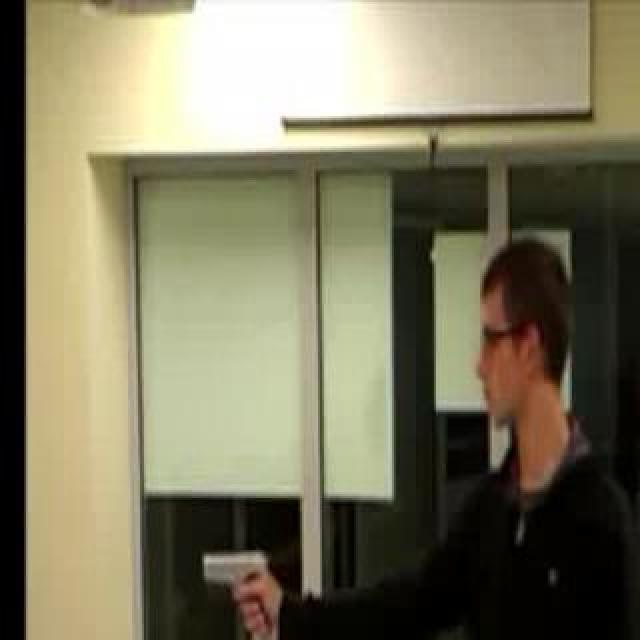Guns: (188, 539, 289, 639)
